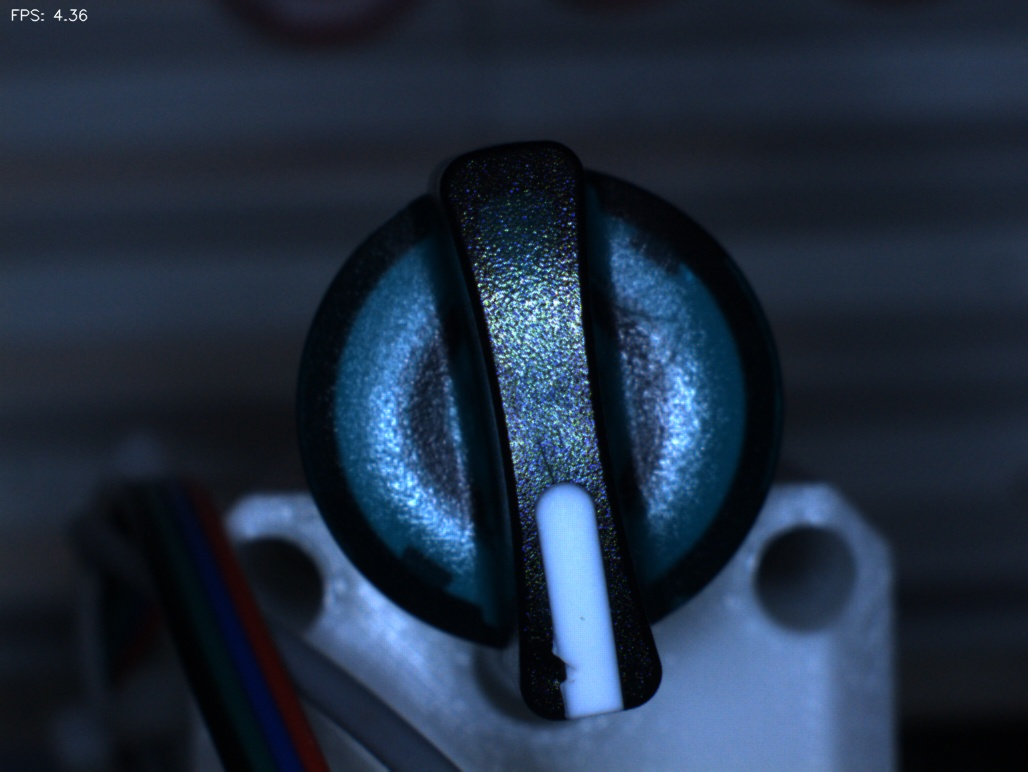Choc: (522, 632, 594, 704)
